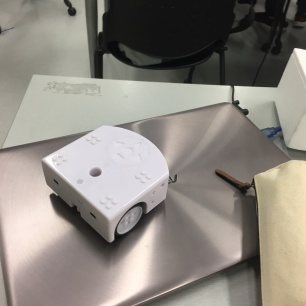thymio: (31, 122, 182, 245)
